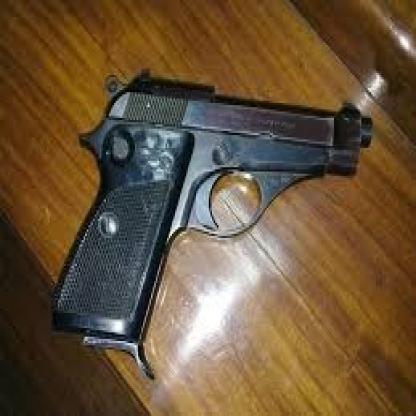Pistol: (42, 58, 374, 406)
